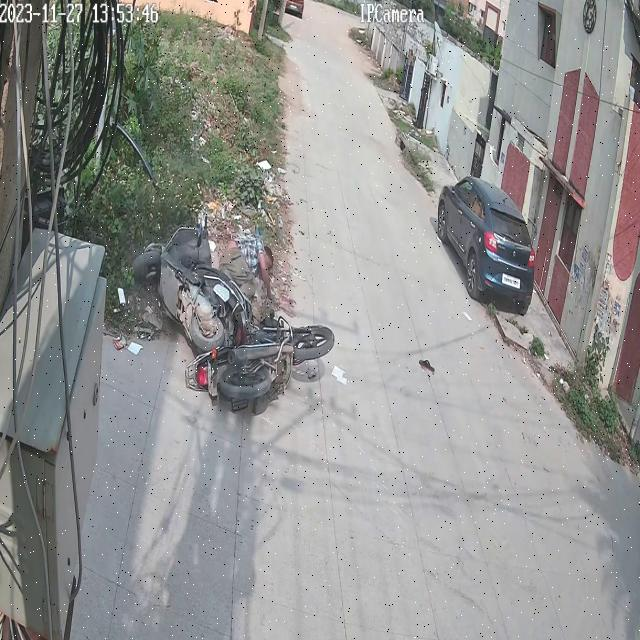accident: (125, 203, 340, 415)
